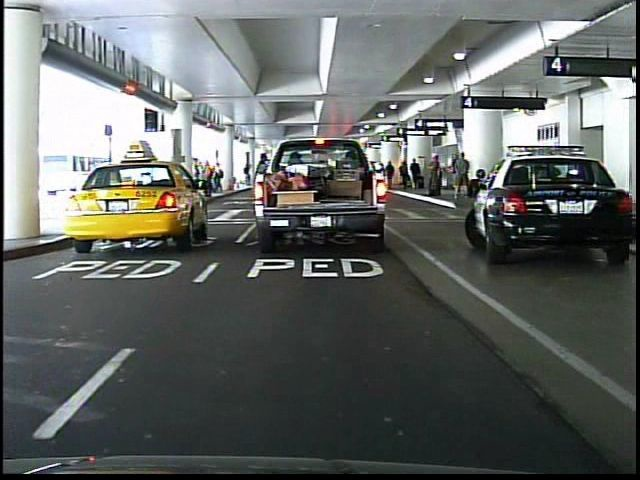person: (246, 150, 273, 218), (310, 145, 334, 205), (242, 161, 254, 188)
